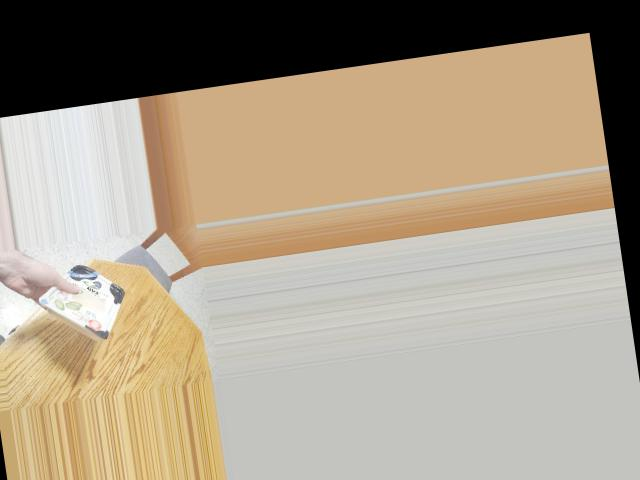cheese: (46, 267, 130, 341)
